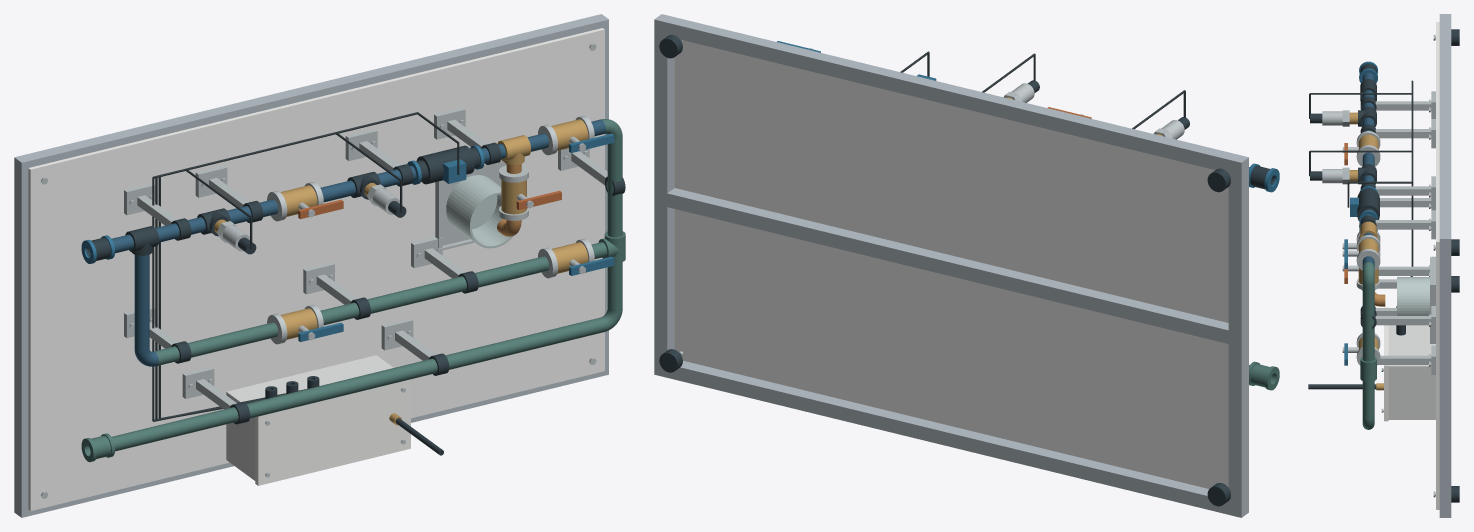
File: bench_layout.obj
The picture shows the model from 3 angles, left to right: view 1: azimuth 30°, elevation 25°; view 2: azimuth 150°, elevation 25°; view 3: azimuth 270°, elevation 25°; orthographic projection. The views are drawn at different scales.
Parts seen in each view (by area): view 1: removable_deck, electronics_lid, rail_rear, return_out, rail_left, electronics_shell, B_to_Bload, open_measuring_vessel, rail_front, B_to_switch, removable_catch_tray, B_vertical (+11 smaller); view 2: removable_deck, rail_rear, rail_front, crossbeam, rail_left, rail_right; view 3: electronics_shell, rail_right, rail_rear, removable_deck, open_measuring_vessel, return_upper, support_9_post, support_3_post, support_0_post, support_2_post, support_1_post, support_5_post (+23 smaller).
Boxes of the visible parts, x1,y1,x2,y2 form: removable_deck: (28, 28, 604, 511); electronics_lid: (255, 379, 410, 485); rail_rear: (14, 14, 608, 176); return_out: (112, 317, 605, 451); rail_left: (14, 171, 28, 503); electronics_shell: (226, 355, 393, 480); B_to_Bload: (320, 256, 548, 325); open_measuring_vessel: (446, 175, 513, 248); rail_front: (14, 361, 608, 517); B_to_switch: (154, 322, 278, 365); removable_catch_tray: (435, 160, 506, 250); B_vertical: (134, 254, 149, 351); removable_deck: (674, 40, 1228, 488); rail_rear: (654, 14, 1248, 176); rail_front: (654, 360, 1248, 517); crossbeam: (667, 188, 1228, 343); rail_left: (1228, 171, 1248, 504); rail_right: (654, 33, 674, 361); electronics_shell: (1388, 325, 1435, 419); rail_right: (1439, 249, 1451, 507); rail_rear: (1439, 14, 1451, 249); removable_deck: (1436, 22, 1439, 509); open_measuring_vessel: (1397, 277, 1429, 315); return_upper: (1362, 283, 1374, 361); support_9_post: (1375, 316, 1431, 325); support_3_post: (1375, 220, 1431, 229); support_0_post: (1375, 101, 1431, 110); support_2_post: (1375, 186, 1431, 195); support_1_post: (1375, 129, 1431, 138); support_5_post: (1378, 266, 1429, 275).
Size of the model in its own units: 900 by 520 by 256.
